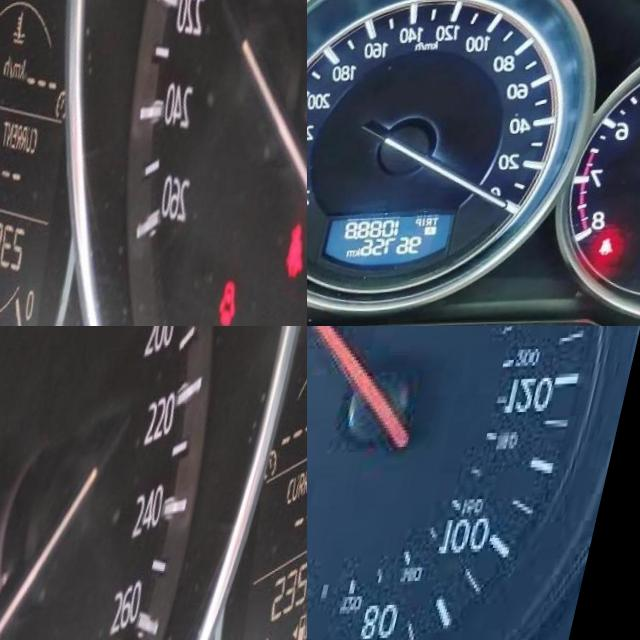Seat Belt: (618, 238, 639, 259)
